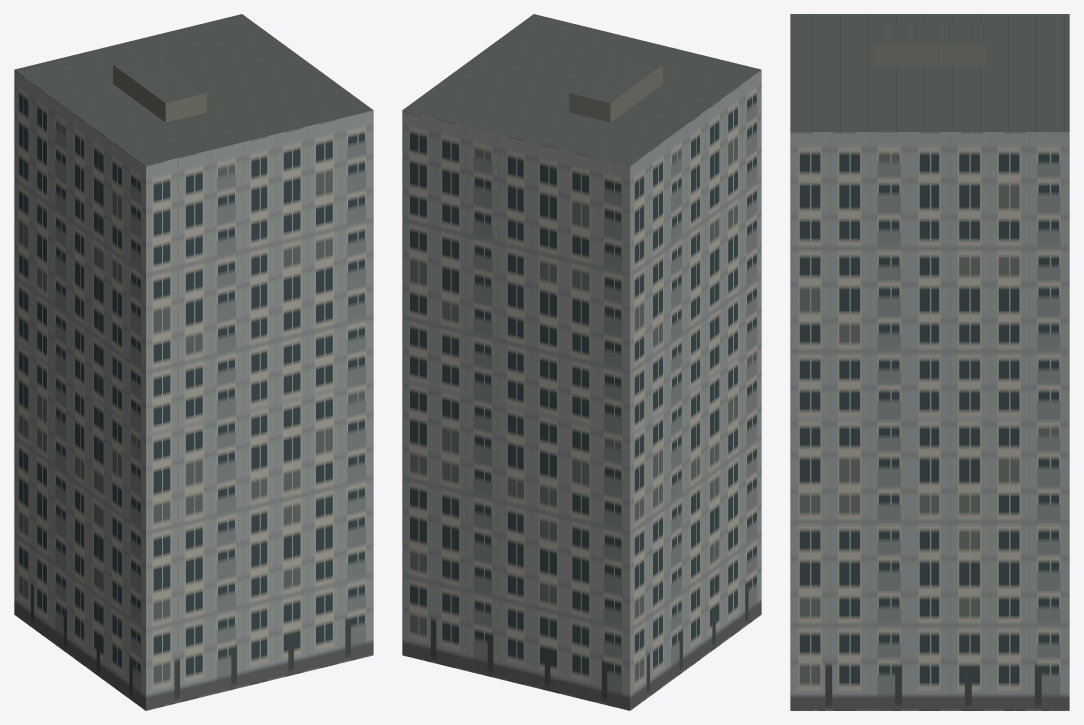
File: kyiv_tower_16_01.obj
3 views of the same model, side by side, from view 1: azimuth 30°, elevation 25°; view 2: azimuth 150°, elevation 25°; view 3: azimuth 270°, elevation 25° (orthographic). The views are drawn at different scales.
Parts seen in each view (by area): view 1: kyiv_tower_16_01; view 2: kyiv_tower_16_01; view 3: kyiv_tower_16_01.
Boxes of the visible parts, x1,y1,x2,y2 form: kyiv_tower_16_01: (14, 14, 373, 710); kyiv_tower_16_01: (402, 14, 761, 710); kyiv_tower_16_01: (790, 14, 1069, 710).
Size of the model in its own units: 21 by 49.7 by 21.
Materials: 1 (1 with a texture image).
